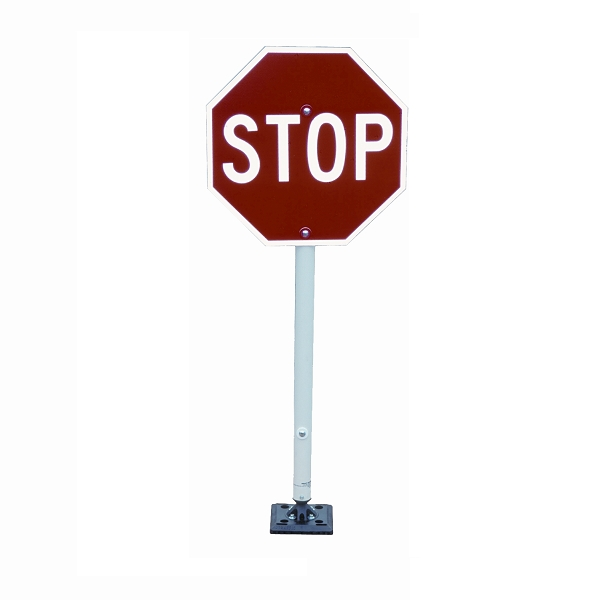stopsign: (213, 48, 409, 244)
